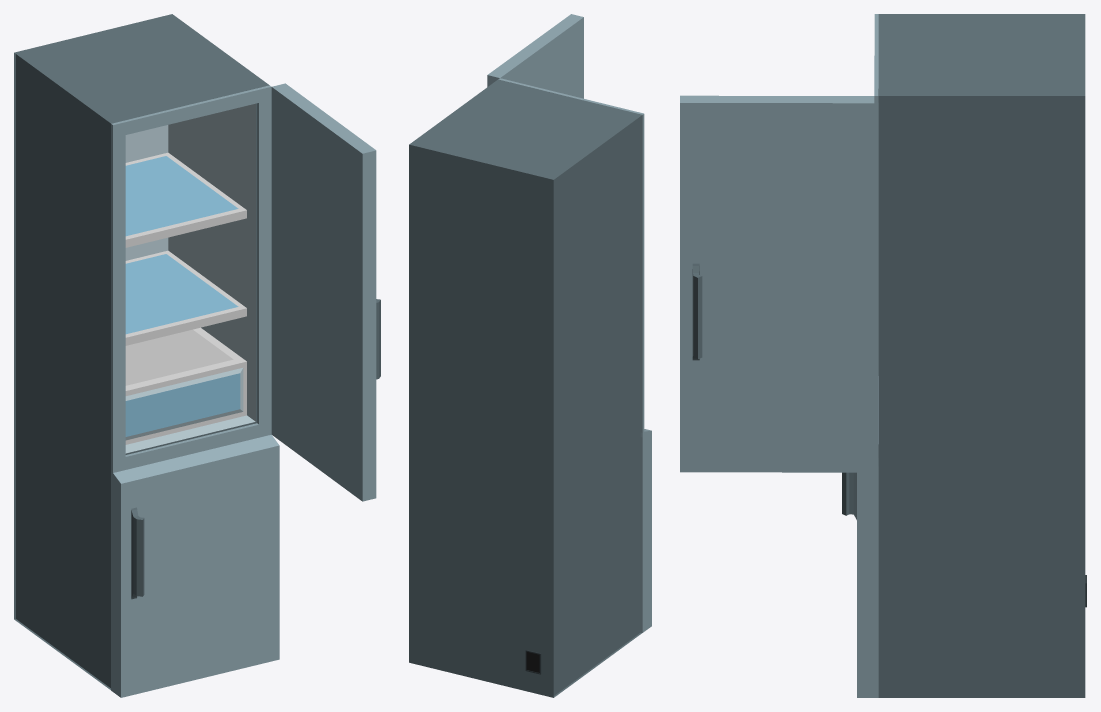
Rendered from Fridge.glb.
3 renders of one model, left to right at view 1: azimuth 30°, elevation 25°; view 2: azimuth 150°, elevation 25°; view 3: azimuth 270°, elevation 25°, orthographic. The views are drawn at different scales.
Visible parts, largest first — view 1: Fridge, Fridge-Door, Fridge-DoorUpper, Fridge-DrawerUpper; view 2: Fridge, Fridge-DoorUpper, Fridge-Door; view 3: Fridge, Fridge-DoorUpper, Fridge-Door.
Part boxes in pixels (box(x1,y1,x2,y2)): Fridge: box(14, 14, 269, 689); Fridge-Door: box(111, 85, 279, 697); Fridge-DoorUpper: box(271, 83, 380, 501); Fridge-DrawerUpper: box(125, 368, 243, 440); Fridge: box(409, 79, 642, 697); Fridge-DoorUpper: box(487, 14, 583, 98); Fridge-Door: box(498, 78, 651, 632); Fridge: box(878, 14, 1086, 697); Fridge-DoorUpper: box(680, 95, 874, 472); Fridge-Door: box(842, 14, 878, 697).
Size of the model in its own units: 0.5914 by 1.74 by 1.06.
1 material, 1 textured.
